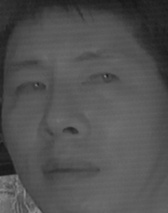eye: (80, 69, 119, 91), (13, 76, 48, 100)
mouth: (40, 151, 102, 185)
